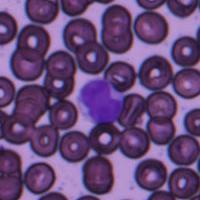M: (78, 76, 125, 123)
